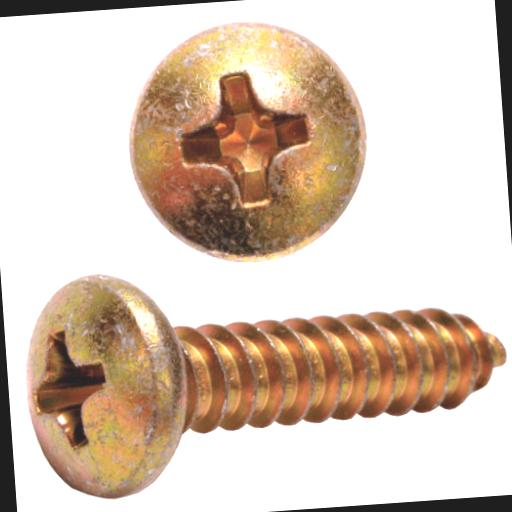Phillips: (122, 12, 377, 270)
